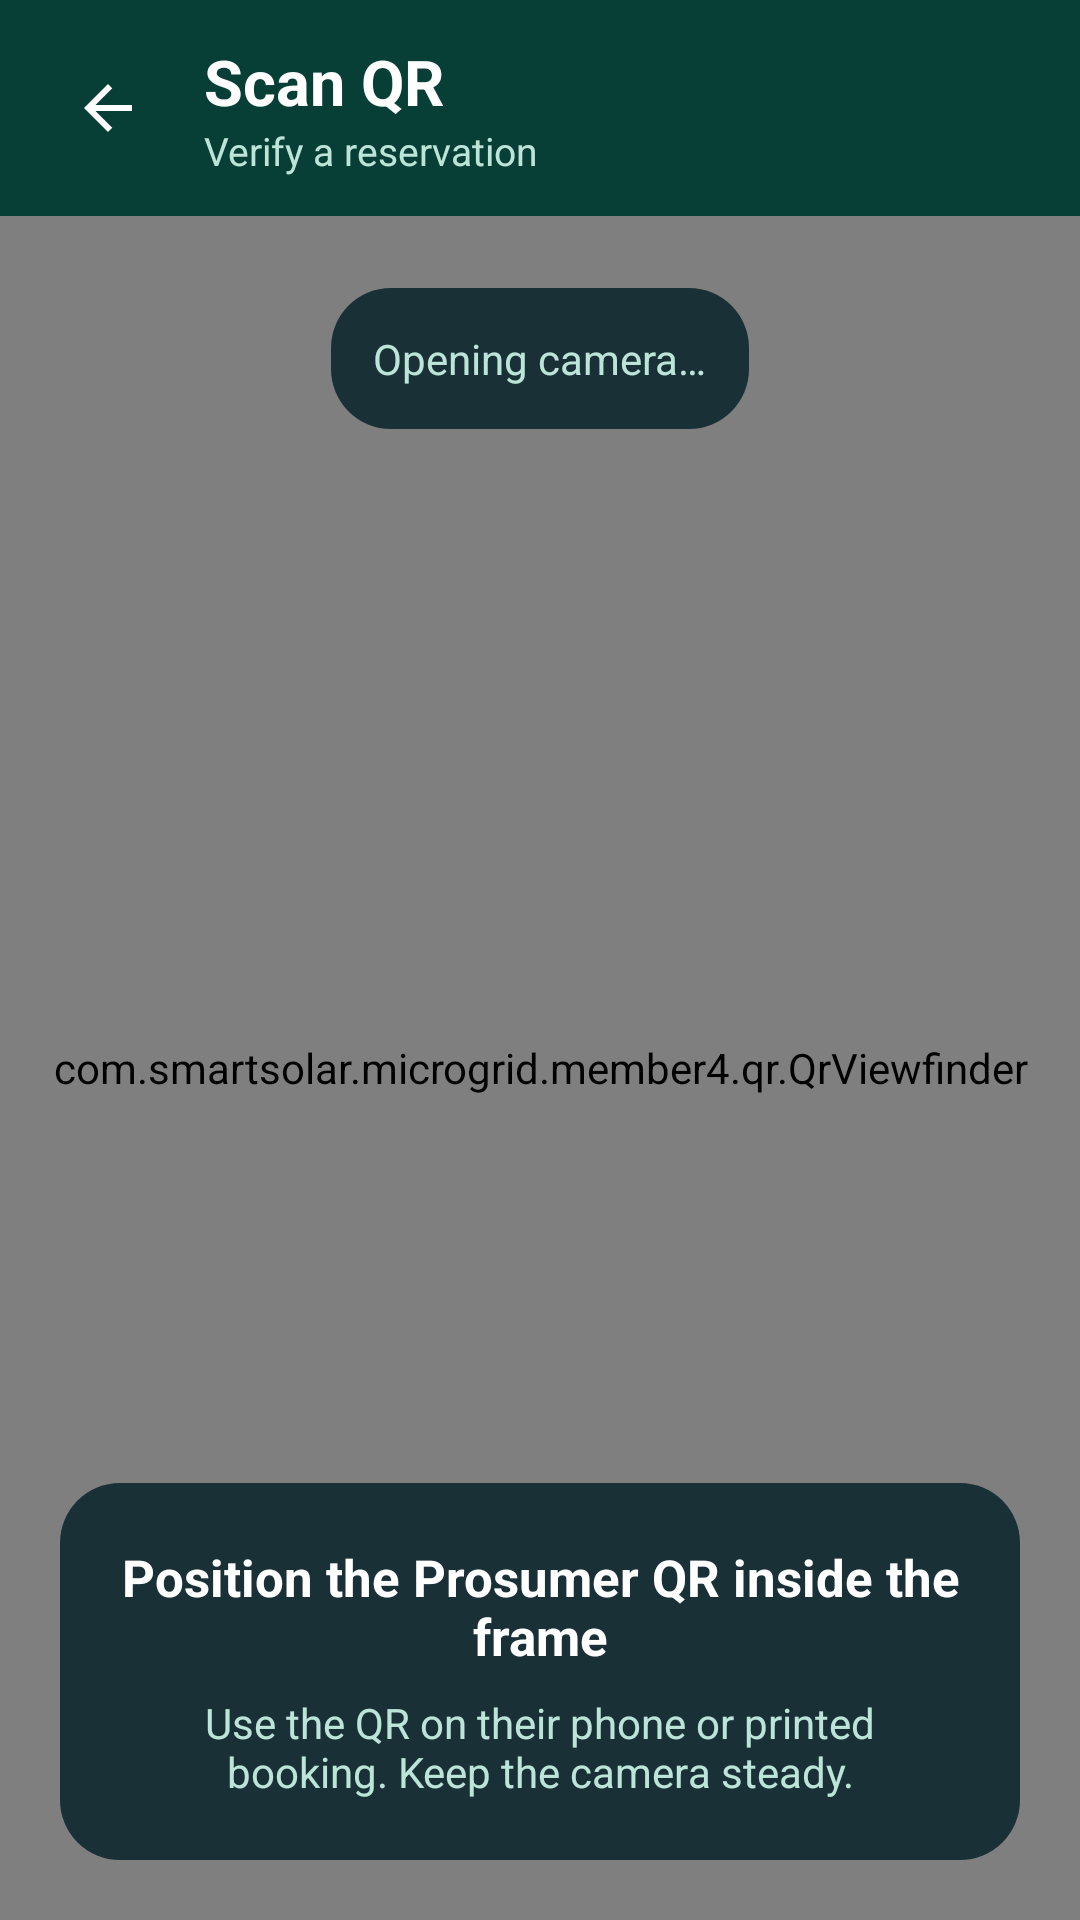

Icons on this 1080*1920 Android screen, each with the point to tap as [x,y]:
Close scanner: [108,108]
